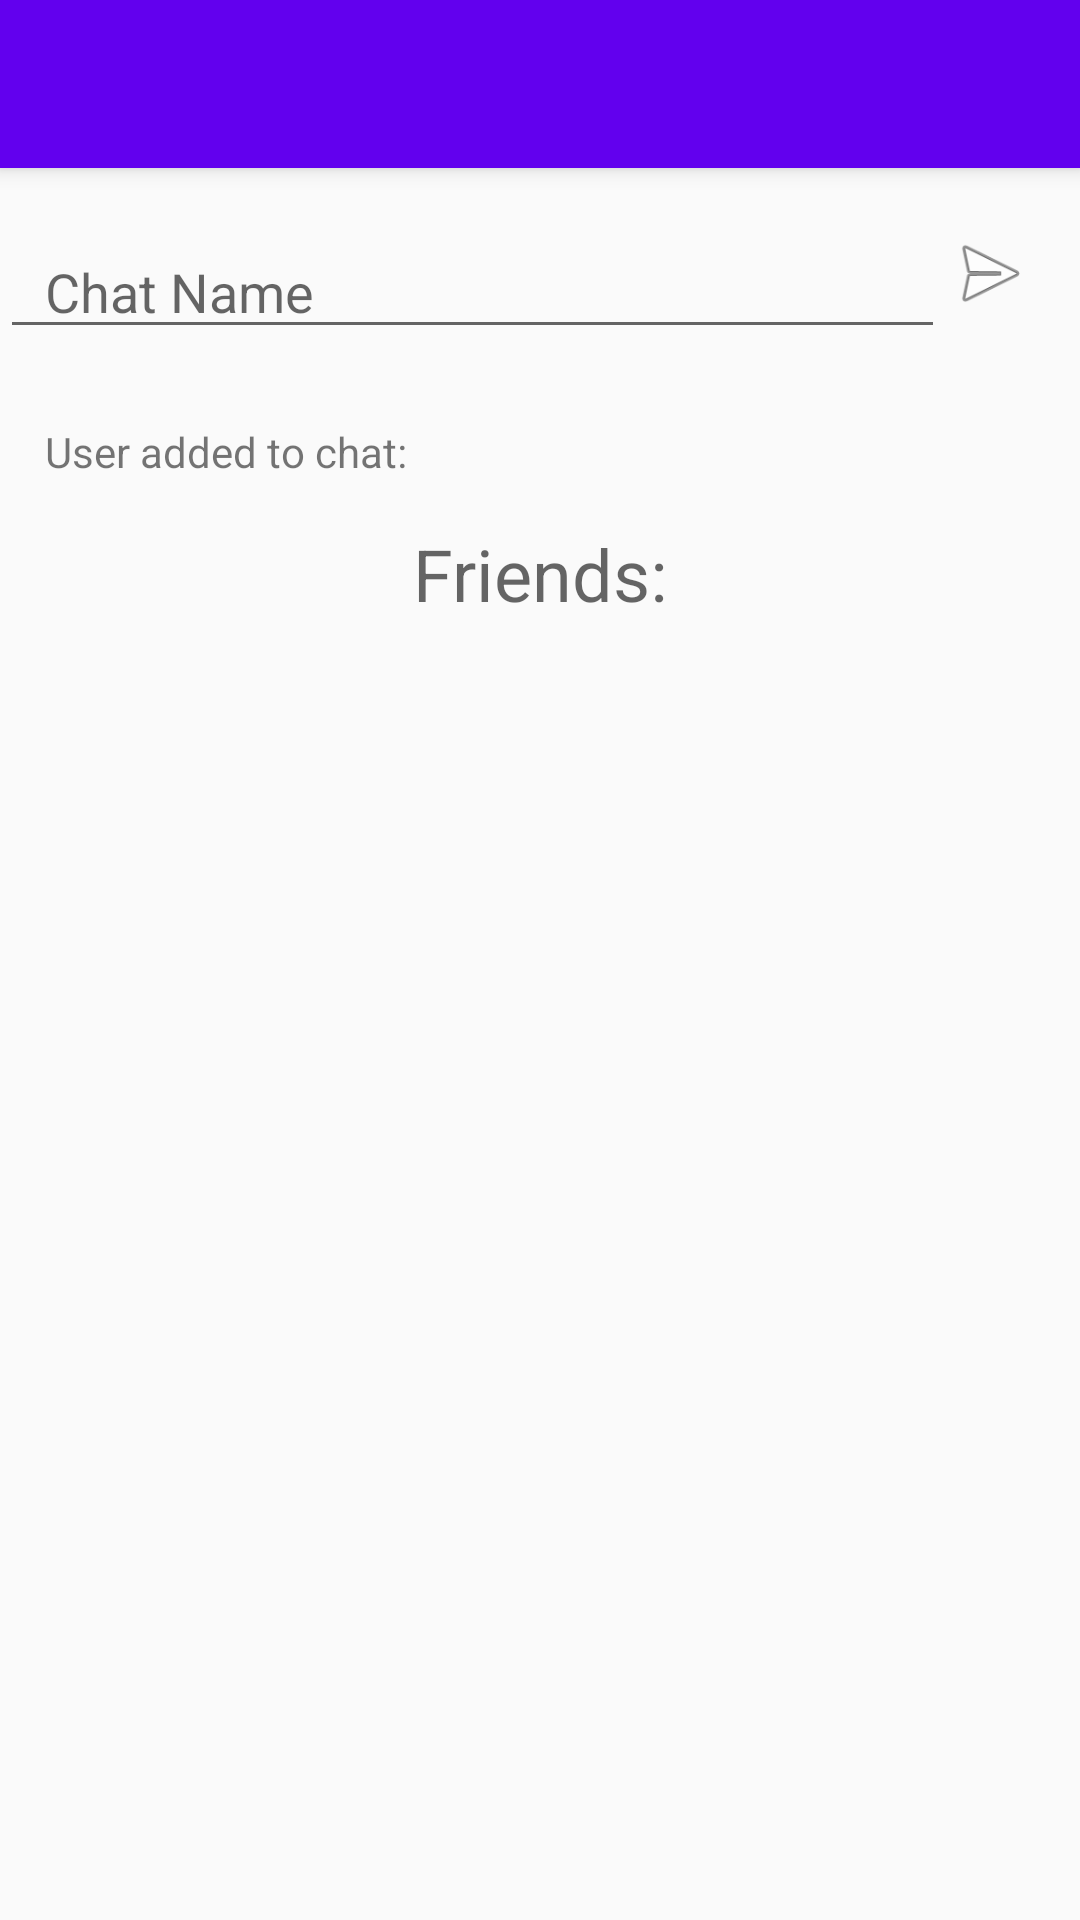

Where icons sit on this 1080w x 1920h app screen, as [x1,y1,x2,y2]:
send: [962,245,1020,302]
